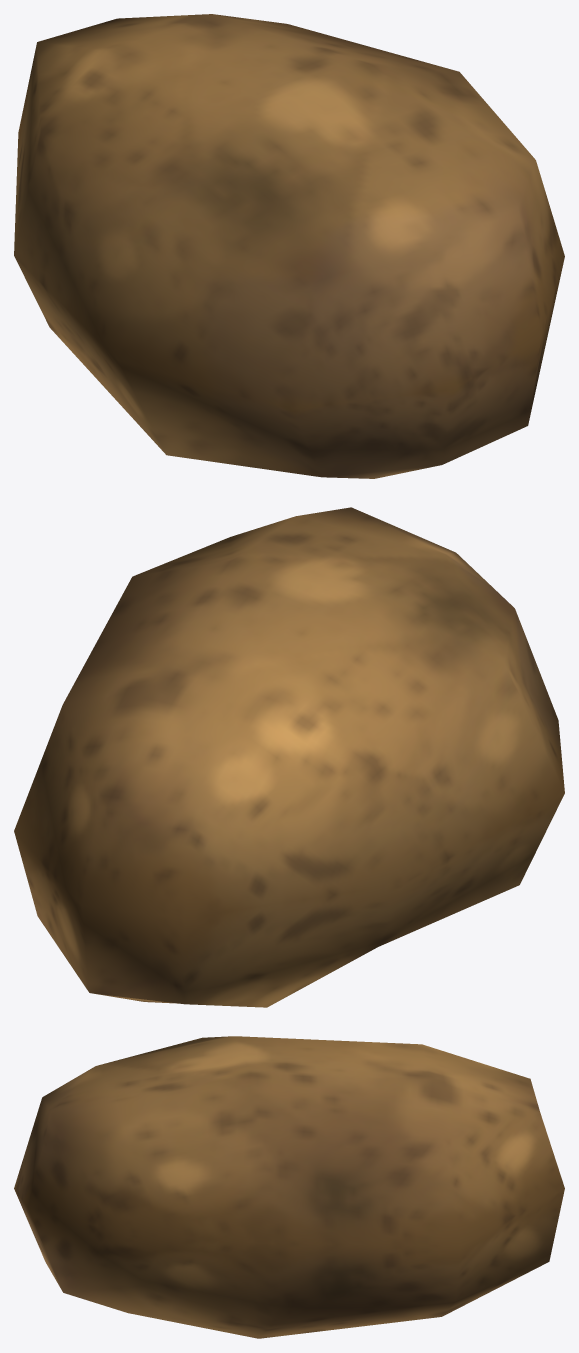
File: plant_potato.gltf
3 renders of one model, top to bottom at view 1: azimuth 30°, elevation 25°; view 2: azimuth 150°, elevation 25°; view 3: azimuth 270°, elevation 25°, orthographic. The views are drawn at different scales.
Parts seen in each view (by area): view 1: plant_potato_A; view 2: plant_potato_A; view 3: plant_potato_A.
Part boxes in pixels (x1=…): plant_potato_A: x1=14, y1=14, x2=564, y2=478; plant_potato_A: x1=14, y1=507, x2=564, y2=1007; plant_potato_A: x1=14, y1=1036, x2=564, y2=1338.
Bounding box in the file's own units: 0.0939 × 0.0753 × 0.1388.
1 material, 1 textured.
